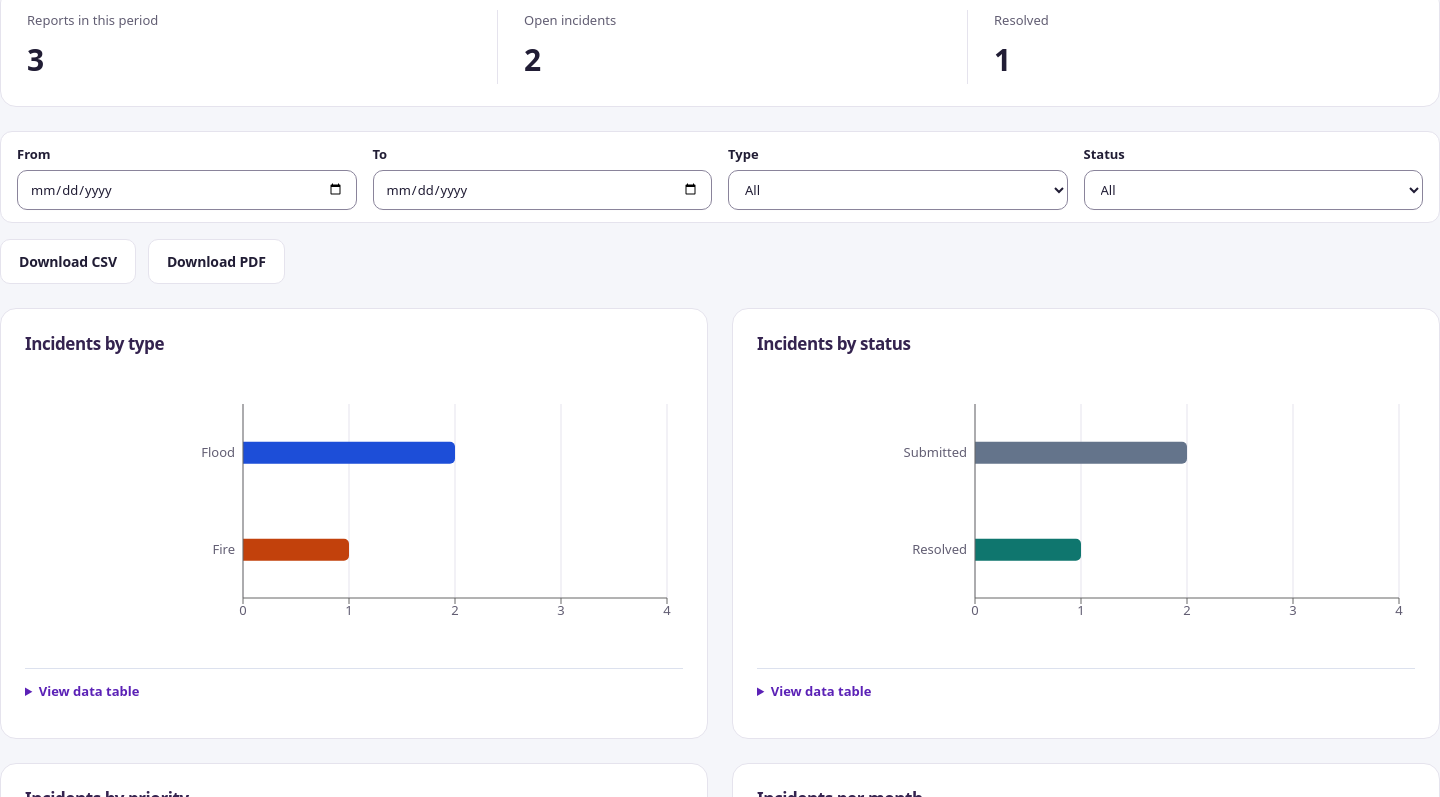
Test: AnalyticsPage › writes the type filter into the query string
Select "Flood" in the dropdown labelled "Type". click: (898, 190)
box: [728,170,1068,210]
(page scrolled)
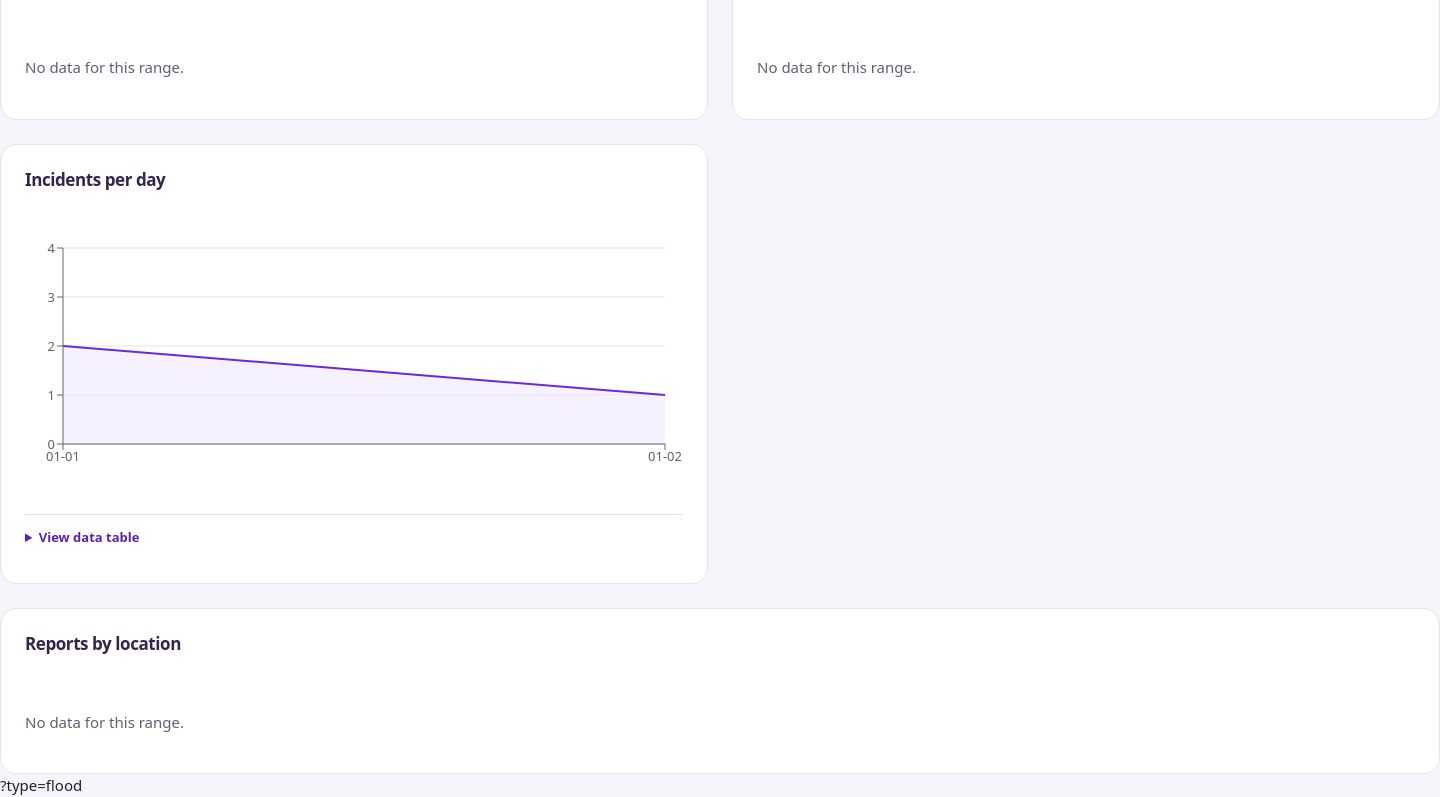
Now the text with test id "search" shows "type=flood", box [0,775,82,795]
